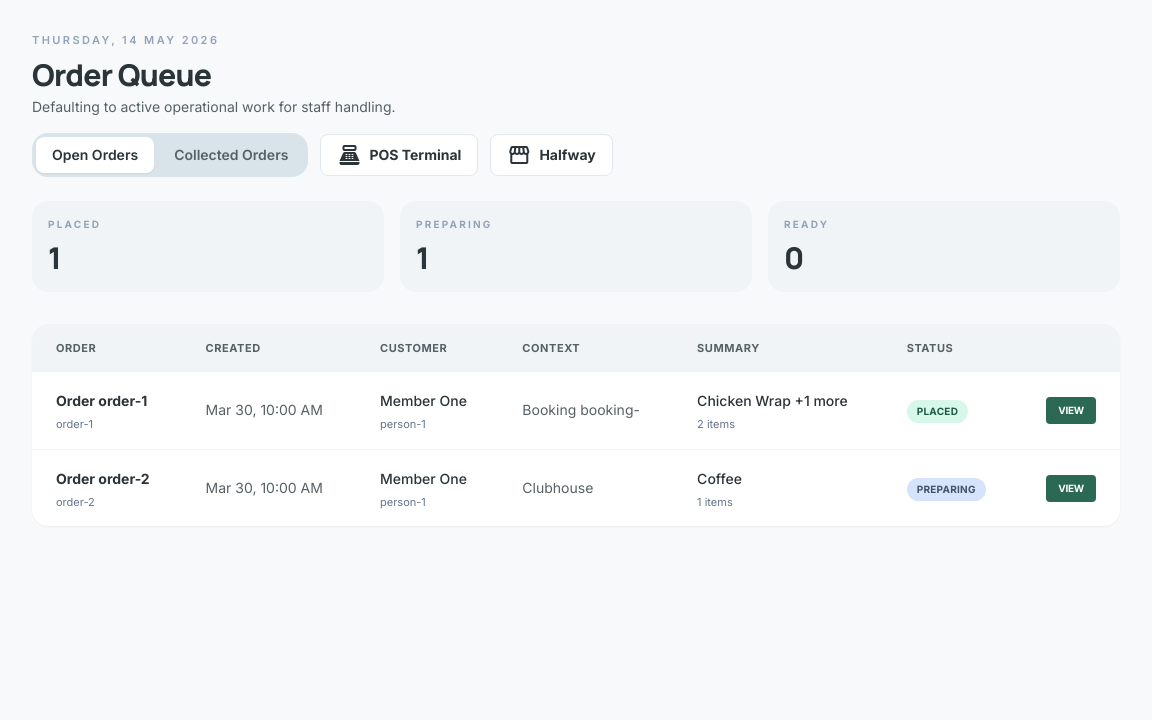
Scenario: AdminOrderQueuePage › opens the drawer and marks a placed order as preparing through the backend endpoint
Click the button with aria-label "open order order-1": x=1071, y=411 [1046,397,1096,424]
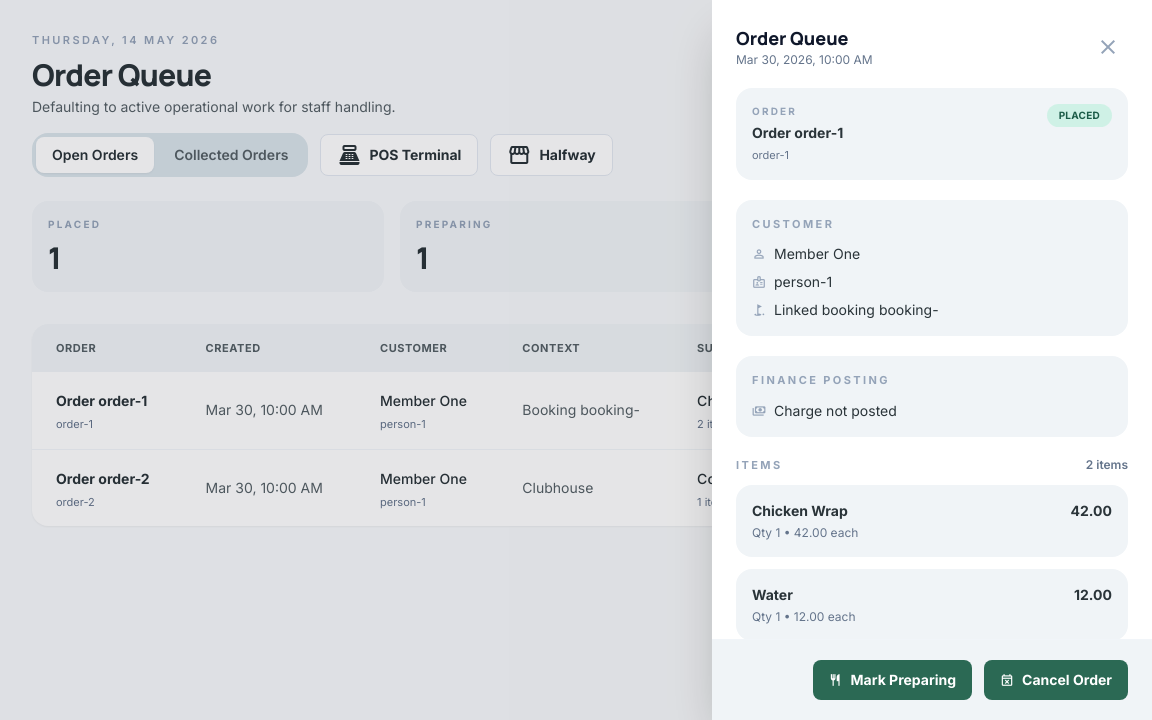
Expected: the heading "Order Queue" is shown, [736,26,848,50]
Expected: the text "Chicken Wrap" is shown, [752,501,858,521]
Click the button "Mark Preparing": x=892, y=680 [812,660,972,700]
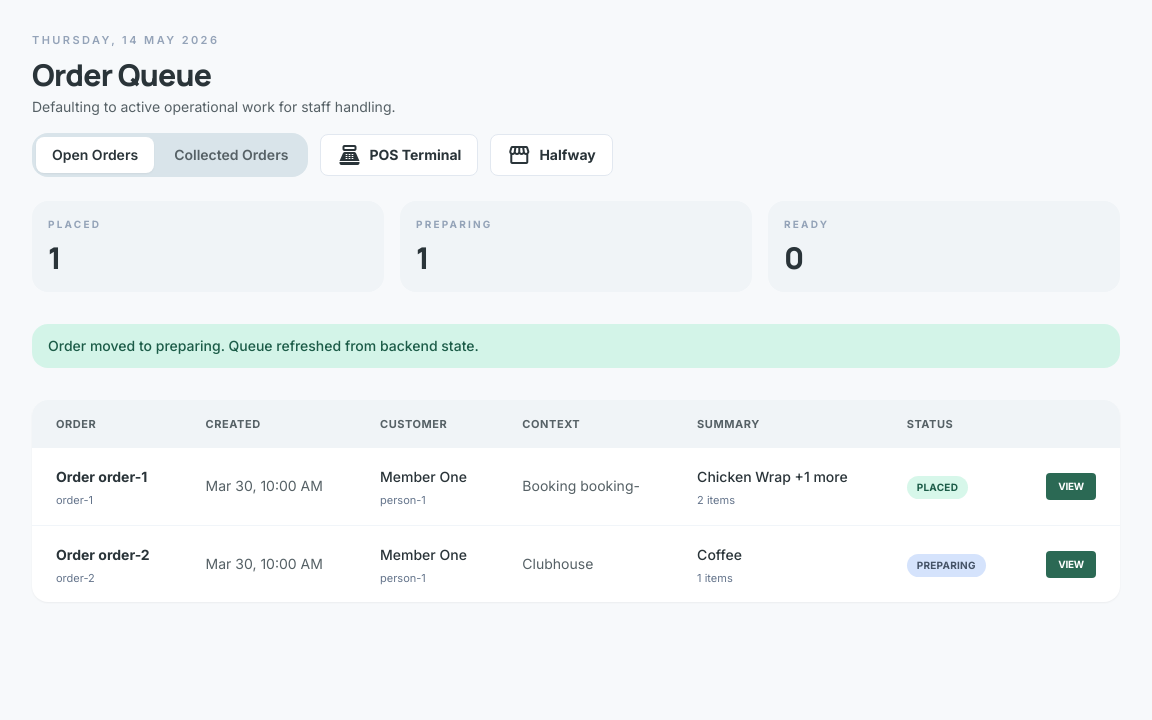
Expected: the text "Order moved to preparing. Queue refreshed from backend state." is shown, [32,324,1120,368]
